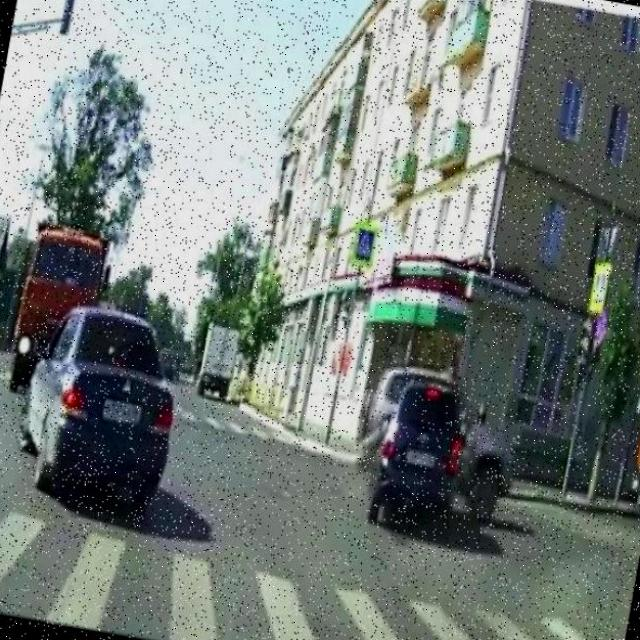accident: (343, 350, 533, 570)
